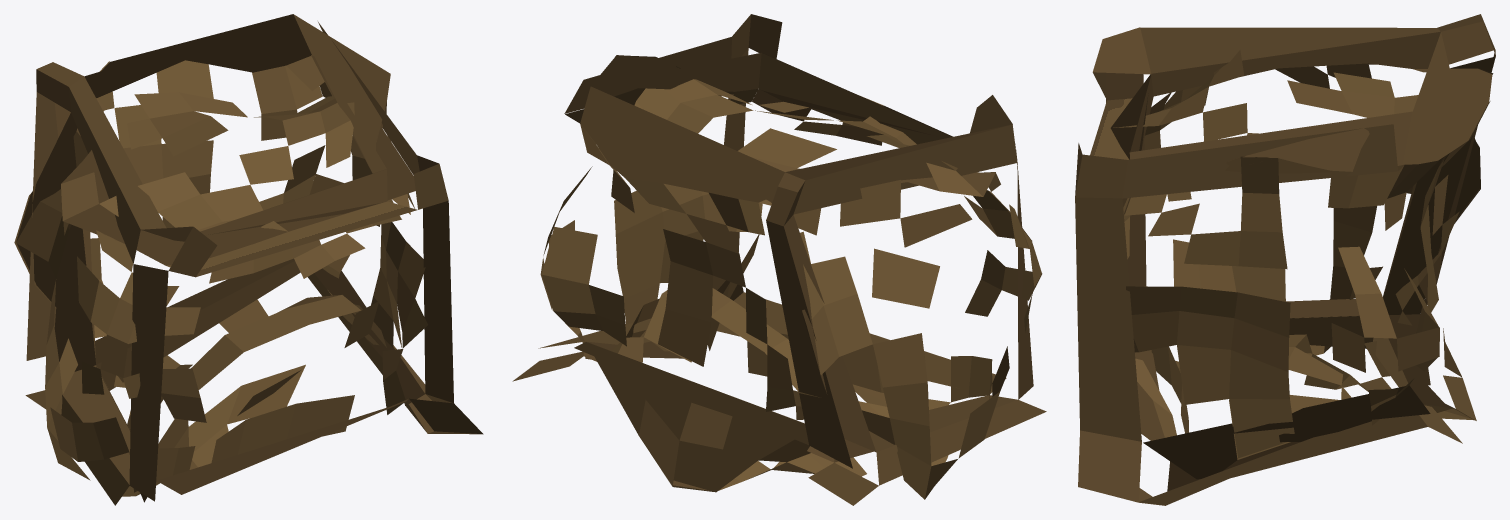
Rendered from WoodBreak.fbx.
The picture shows the model from 3 angles, left to right: view 1: azimuth 30°, elevation 25°; view 2: azimuth 150°, elevation 25°; view 3: azimuth 270°, elevation 25°; orthographic projection. The views are drawn at different scales.
Parts seen in each view (by area): view 1: WoodBlock; view 2: WoodBlock; view 3: WoodBlock.
Part boxes in pixels (bbox=[...]): WoodBlock: bbox=[14, 14, 483, 505]; WoodBlock: bbox=[512, 14, 1046, 505]; WoodBlock: bbox=[1075, 14, 1495, 505].
Bounding box in the file's own units: 164 × 153 × 143.
